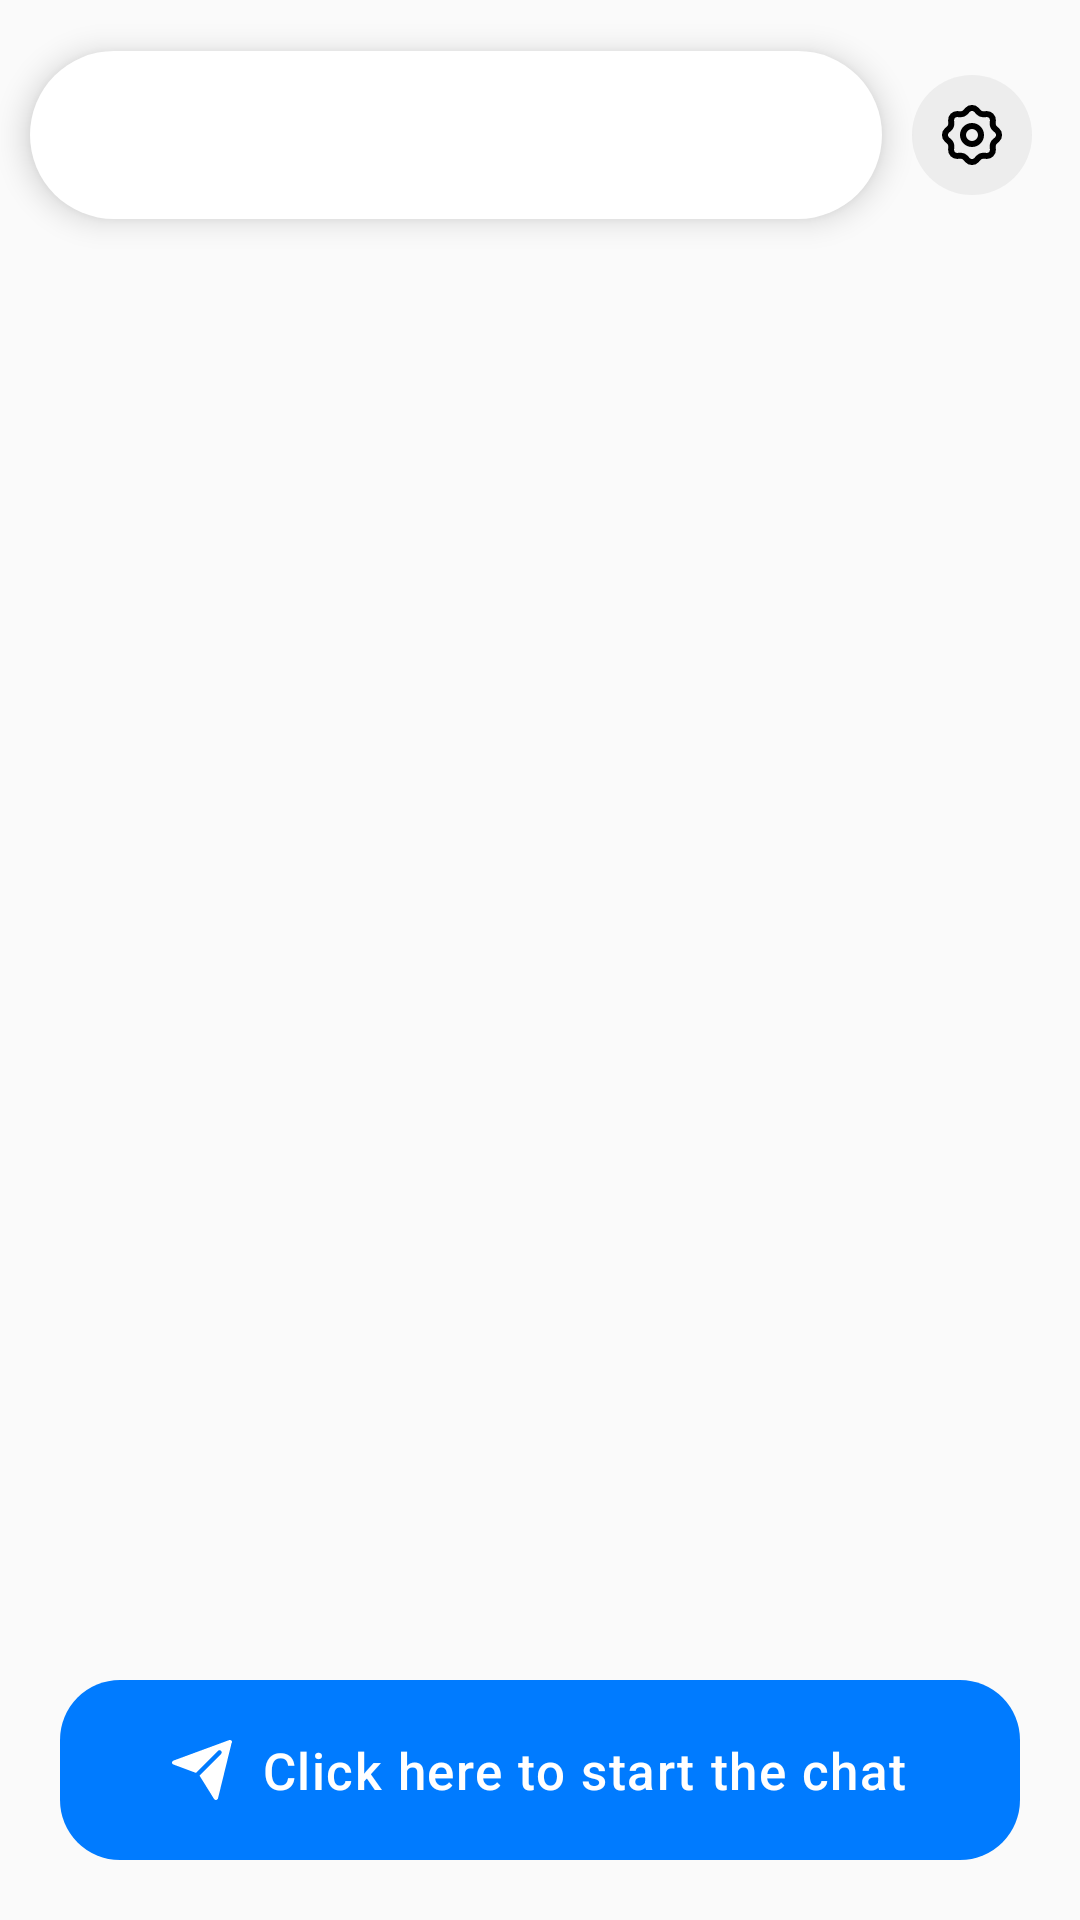

Screen size 1080×1920. Icon name, then its box in pixels as (x1, y1, x2, y2):
send: (172, 1740, 232, 1800)
settings: (942, 105, 1002, 165)
